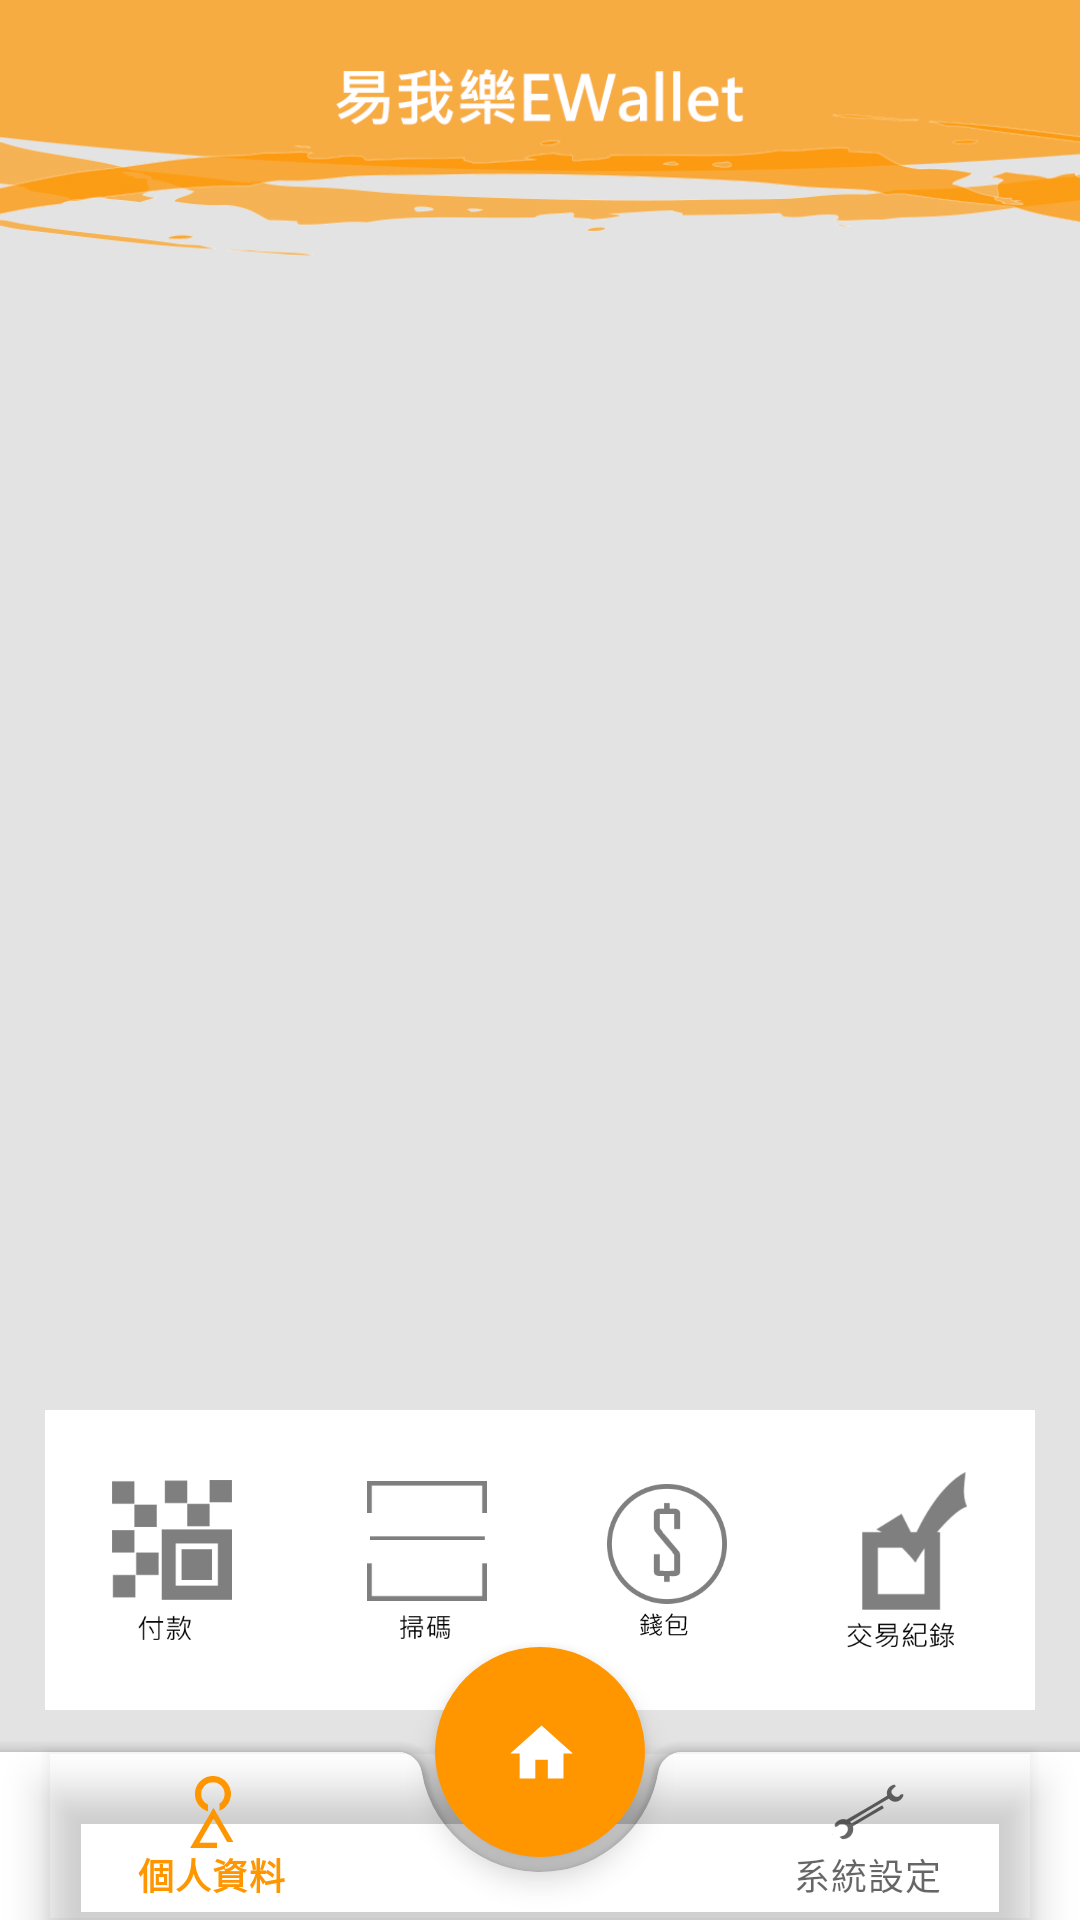

Icons on this 1080x1920 Android screen, each with the point to tap as point (x, y):
ew home: point (540, 1752)
